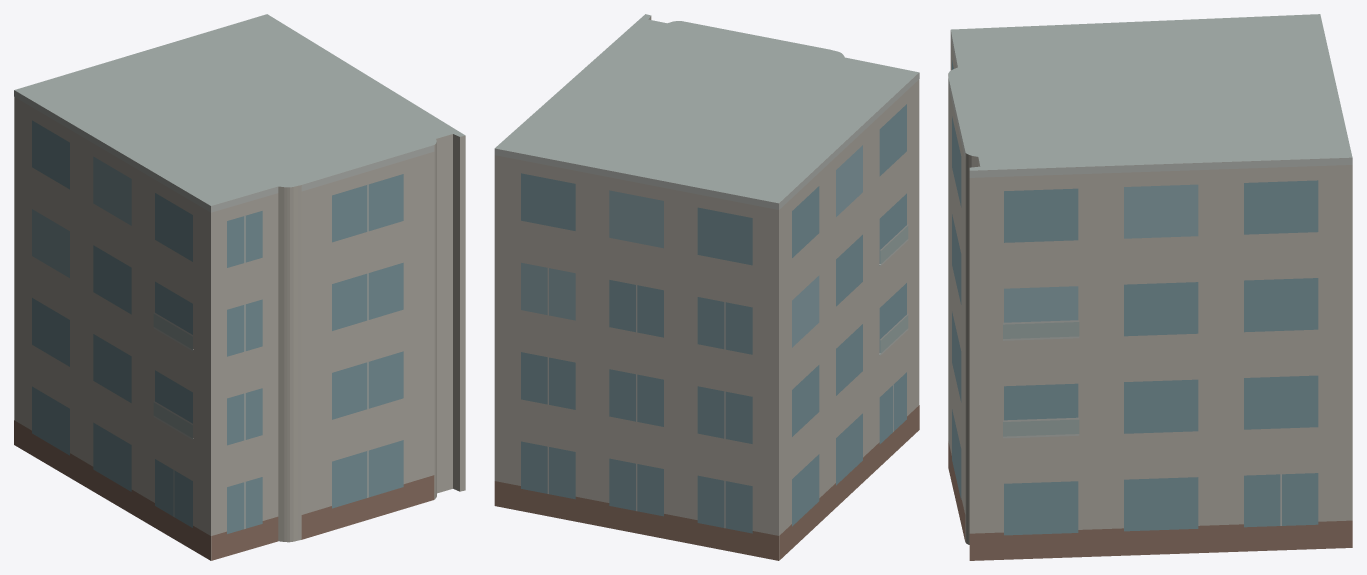
File: survey-upis-32473642.glb
The picture shows the model from 3 angles, left to right: view 1: azimuth 30°, elevation 25°; view 2: azimuth 150°, elevation 25°; view 3: azimuth 270°, elevation 25°; orthographic projection. The views are drawn at different scales.
Visible parts, largest first — view 1: survey-upis-32473642.tmp; view 2: survey-upis-32473642.tmp; view 3: survey-upis-32473642.tmp.
Boxes of the visible parts, left/top/right/bottom form: survey-upis-32473642.tmp: left=14, top=14, right=465, bottom=560; survey-upis-32473642.tmp: left=494, top=14, right=919, bottom=560; survey-upis-32473642.tmp: left=948, top=14, right=1352, bottom=560.
Bounding box in the file's own units: 11.3 × 13.1 × 12.31.
